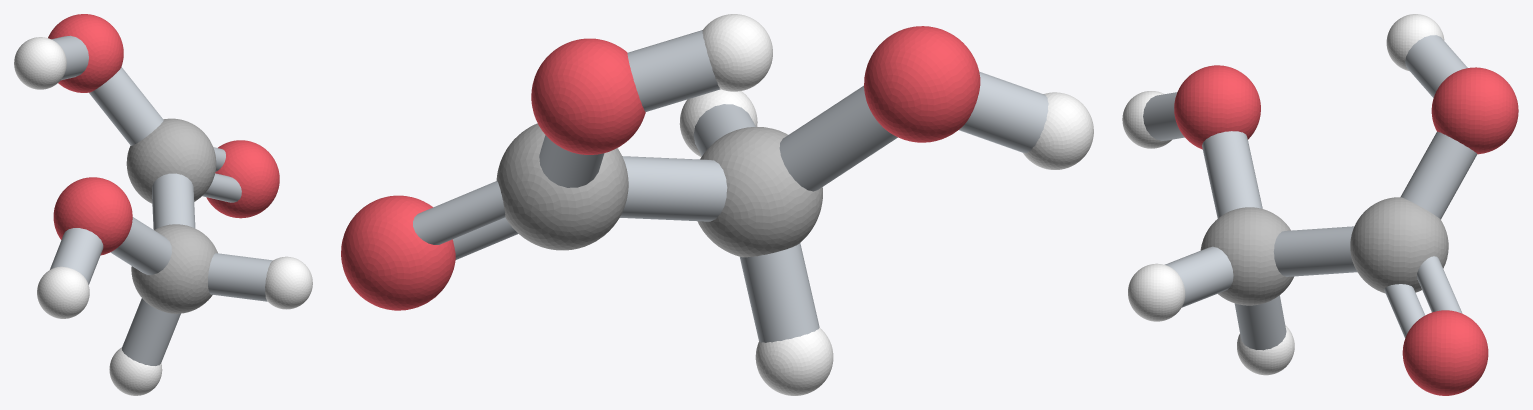
File: Glicolico.glb
3 renders of one model, left to right at view 1: azimuth 30°, elevation 25°; view 2: azimuth 150°, elevation 25°; view 3: azimuth 270°, elevation 25°, orthographic. The views are drawn at different scales.
Size of the model in its own units: 4.03 by 3.25 by 3.42.
